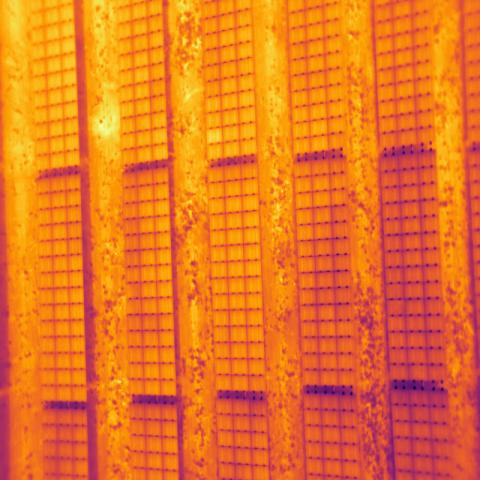fault: (206, 127, 223, 146)
